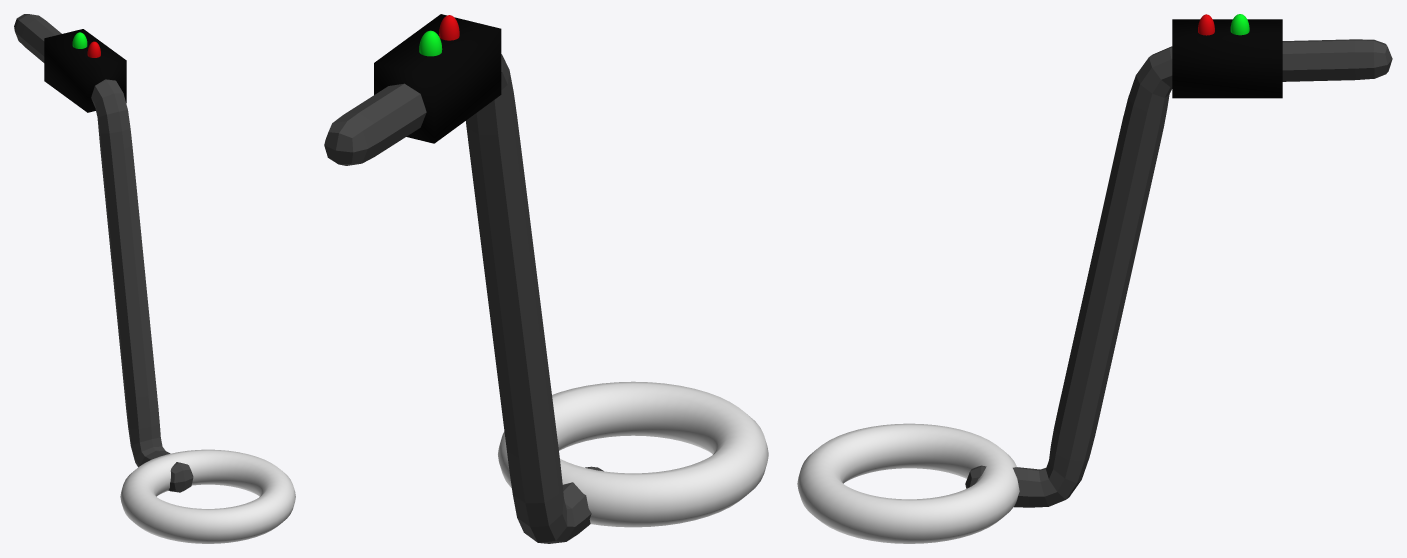
File: detect.fbx
3 views of the same model, side by side, from view 1: azimuth 30°, elevation 25°; view 2: azimuth 150°, elevation 25°; view 3: azimuth 270°, elevation 25° (orthographic). The views are drawn at different scales.
Parts seen in each view (by area): view 1: Plane, Torus, Cube; view 2: Plane, Torus, Cube; view 3: Plane, Torus, Cube.
Part boxes in pixels (x1,y1,x2,y2): Plane: (14,14,193,492); Torus: (120,449,295,543); Cube: (44,29,126,112); Plane: (324,54,603,543); Torus: (498,381,768,527); Cube: (374,14,501,143); Plane: (965,39,1392,507); Torus: (797,423,1019,543); Cube: (1172,19,1282,98).
Size of the model in its own units: 205 by 500 by 546.
